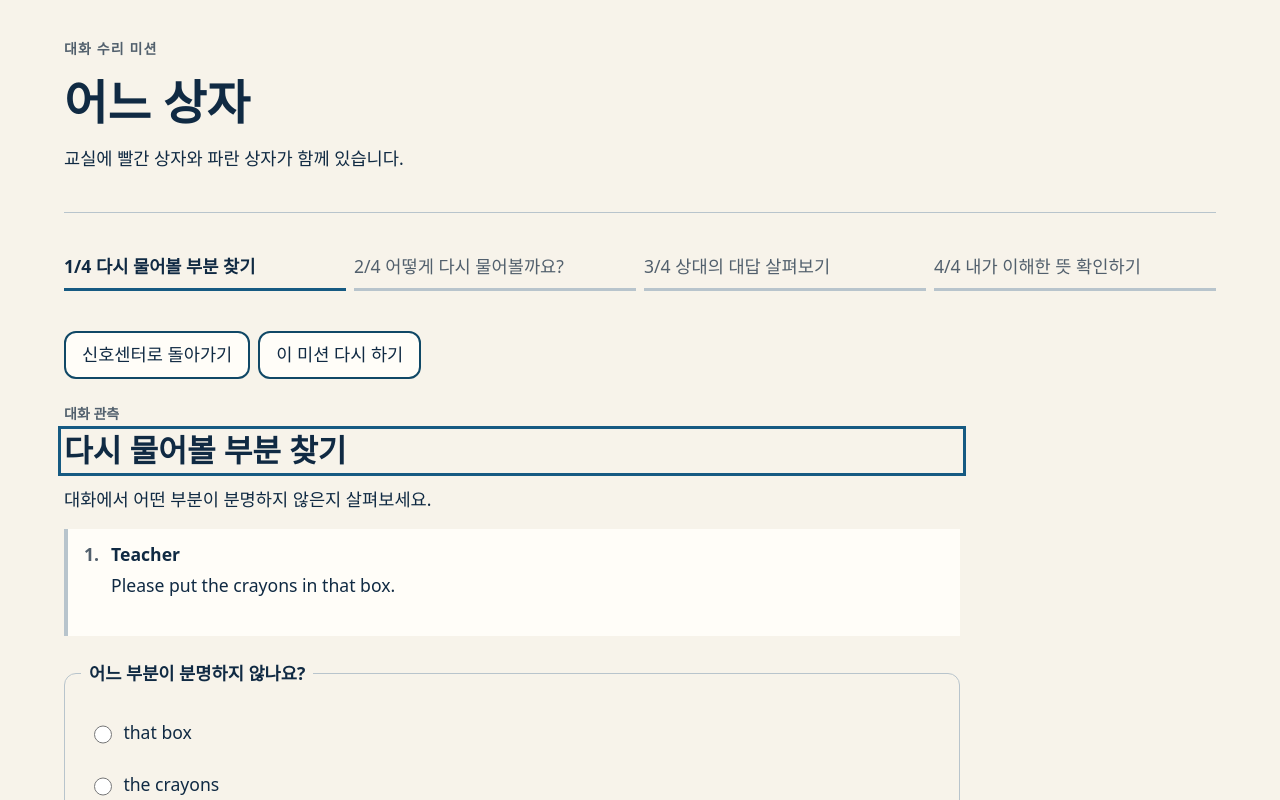
Test case: DialogueObservation › keeps the learner in observation and announces a Korean hint after a wrong slot
Click the radio button labelled "the crayons" at (103, 786), box [94,777,112,796]
(page scrolled)
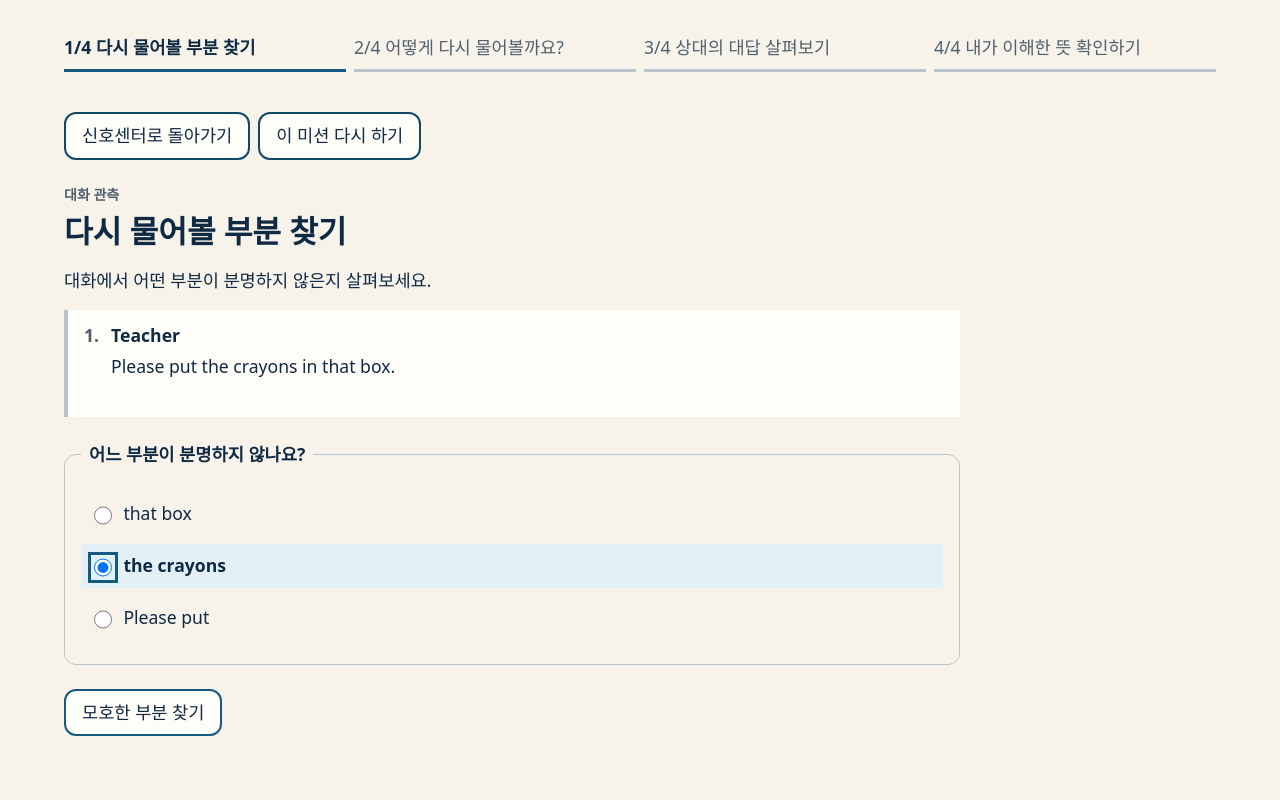
Click the button "모호한 부분 찾기" at (143, 713), box [64,689,222,736]
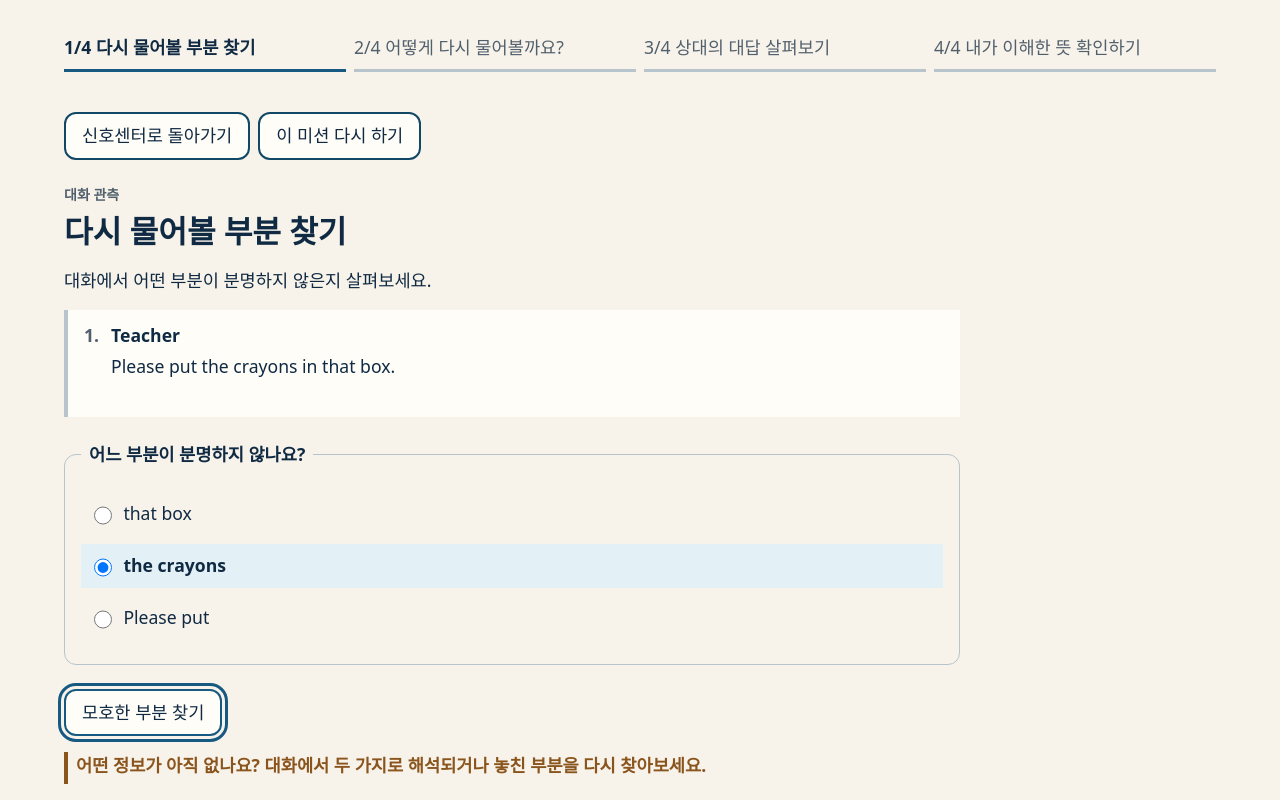
Expected: the heading "다시 물어볼 부분 찾기" is shown, [64,210,347,252]
Now the message shows "어떤 정보가 아직 없나요?", box [76,753,706,777]
